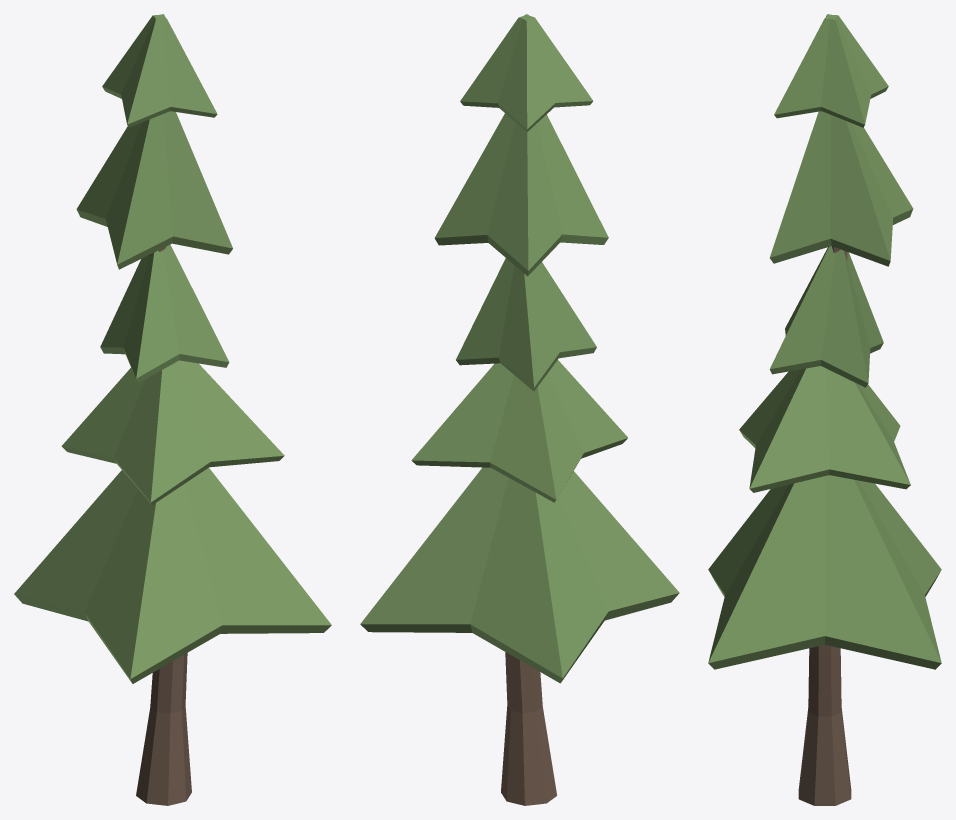
File: Tree_02.fbx
3 views of the same model, side by side, from view 1: azimuth 30°, elevation 25°; view 2: azimuth 150°, elevation 25°; view 3: azimuth 270°, elevation 25° (orthographic).
Parts seen in each view (by area): view 1: Tree_02; view 2: Tree_02; view 3: Tree_02.
Part boxes in pixels (<box>): Tree_02: <box>14,14,331,805</box>; Tree_02: <box>360,14,679,805</box>; Tree_02: <box>708,14,941,805</box>.
Bounding box in the file's own units: 203 × 745 × 203.
